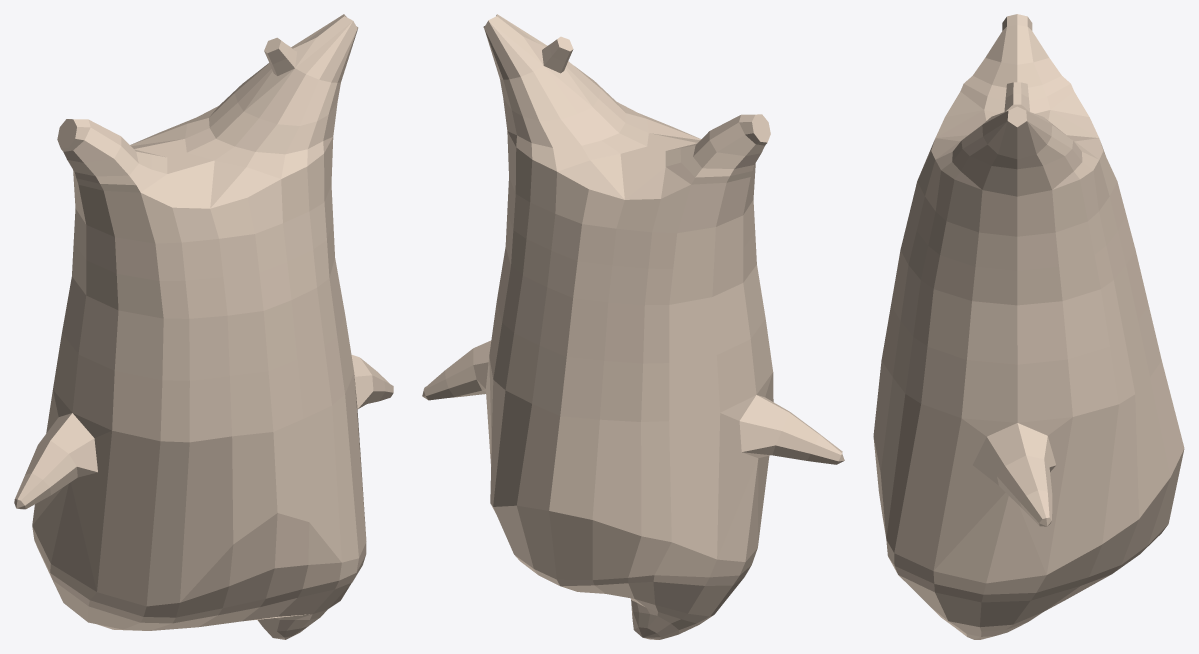
File: frame_0011.obj
3 renders of one model, left to right at view 1: azimuth 30°, elevation 25°; view 2: azimuth 150°, elevation 25°; view 3: azimuth 270°, elevation 25°, orthographic. The views are drawn at different scales.
Parts seen in each view (by area): view 1: korok; view 2: korok; view 3: korok.
Boxes of the visible parts, bbox=[...] form: korok: bbox=[14, 14, 393, 639]; korok: bbox=[422, 14, 844, 639]; korok: bbox=[873, 14, 1184, 639].
Size of the model in its own units: 1.57 by 2.15 by 1.06.
